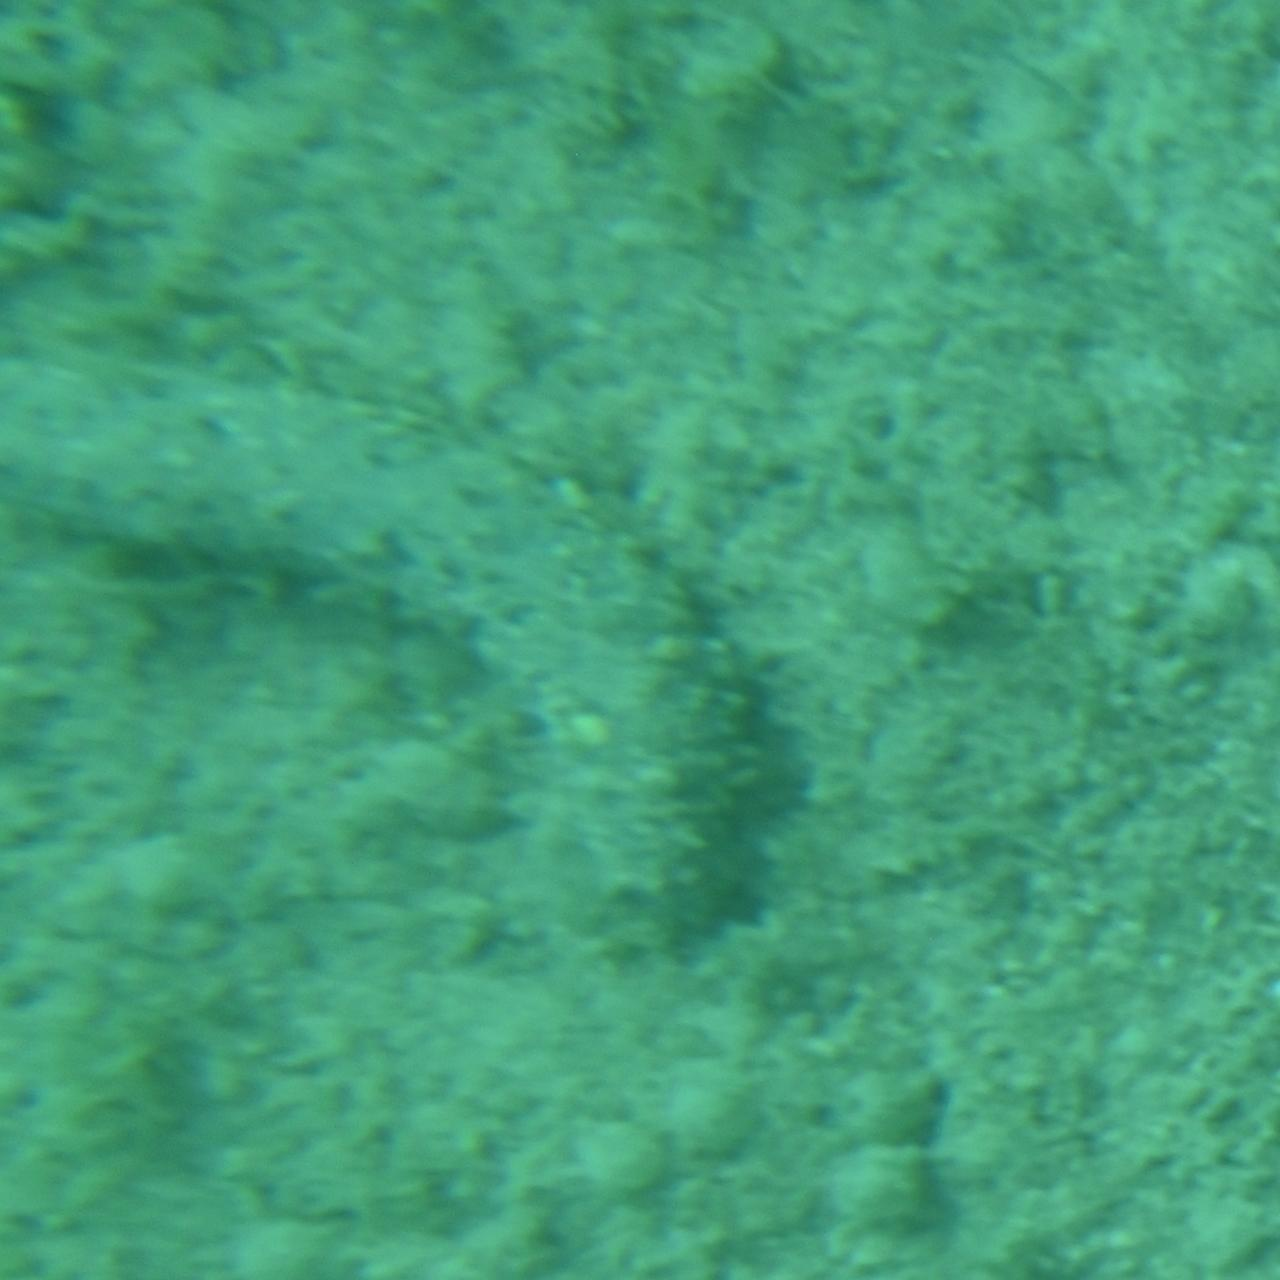Holothuria tubulosa: (2, 326, 790, 954)
